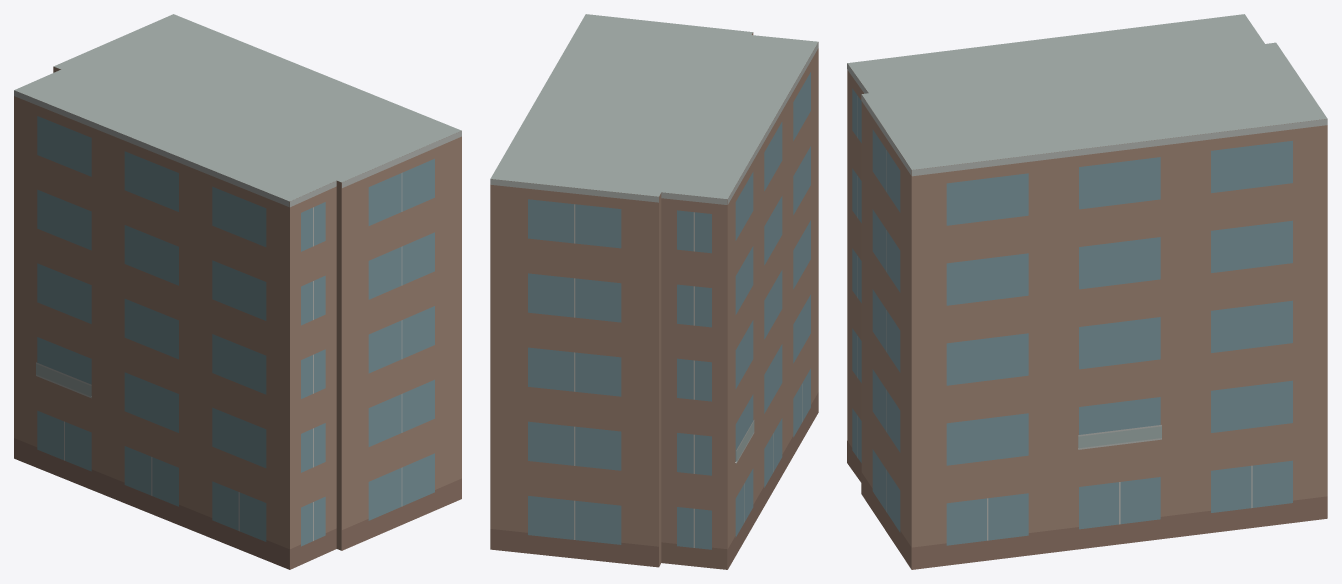
Rendered from survey-upis-33011184.glb.
3 views of the same model, side by side, from view 1: azimuth 30°, elevation 25°; view 2: azimuth 150°, elevation 25°; view 3: azimuth 270°, elevation 25° (orthographic). The views are drawn at different scales.
Visible parts, largest first — view 1: survey-upis-33011184.tmp; view 2: survey-upis-33011184.tmp; view 3: survey-upis-33011184.tmp.
Boxes of the visible parts, x1=… form: survey-upis-33011184.tmp: x1=14, y1=14, x2=461, y2=569; survey-upis-33011184.tmp: x1=490, y1=14, x2=818, y2=569; survey-upis-33011184.tmp: x1=847, y1=14, x2=1327, y2=569.
Bounding box in the file's own units: 12.81 × 15.3 × 16.67.
